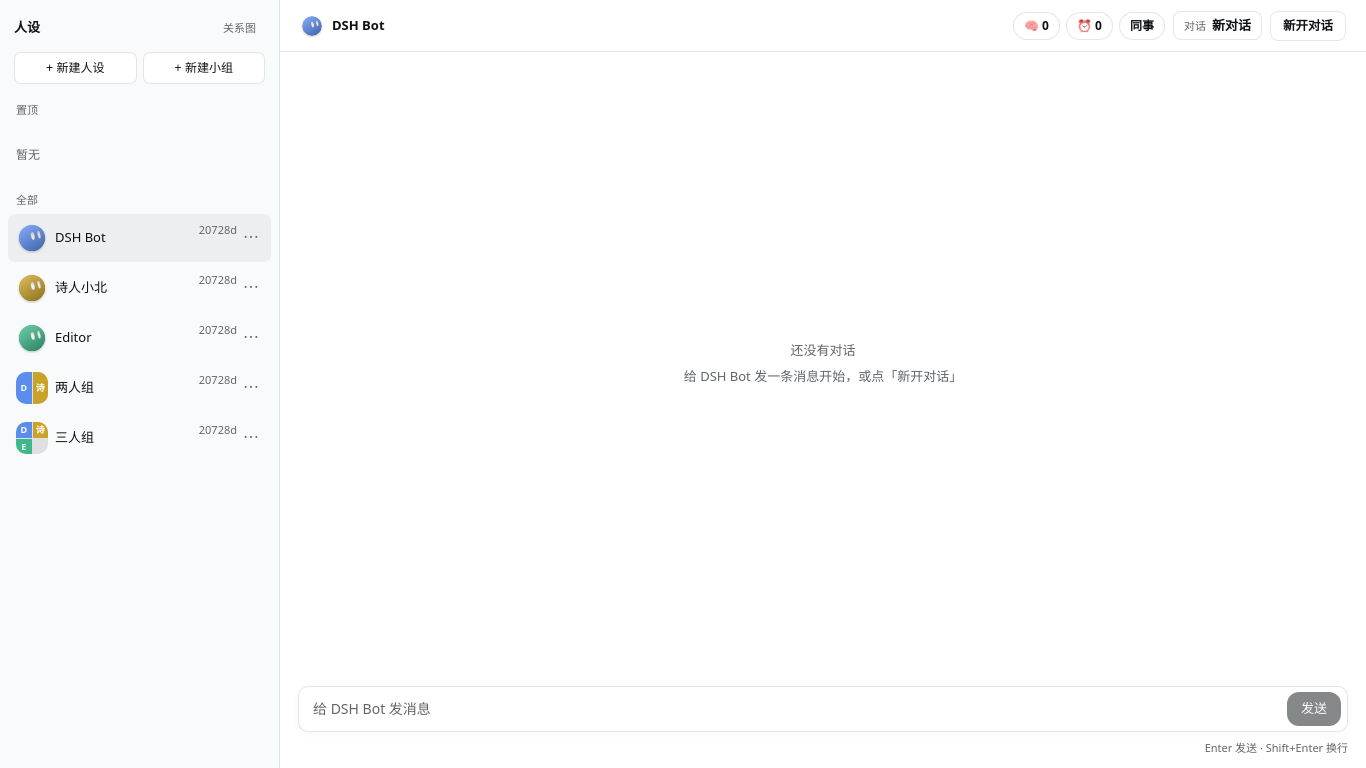
it: App roster load › refreshes groups after deleting a member bot
Expected: the element with test id "roster-row-pair" is shown, [8,364,271,412]
Expected: the element with test id "roster-row-trio" is shown, [8,414,271,462]
Click the button with test id "roster-menu-shiren-xiaobei".
click(251, 288)  # box [239,276,263,300]
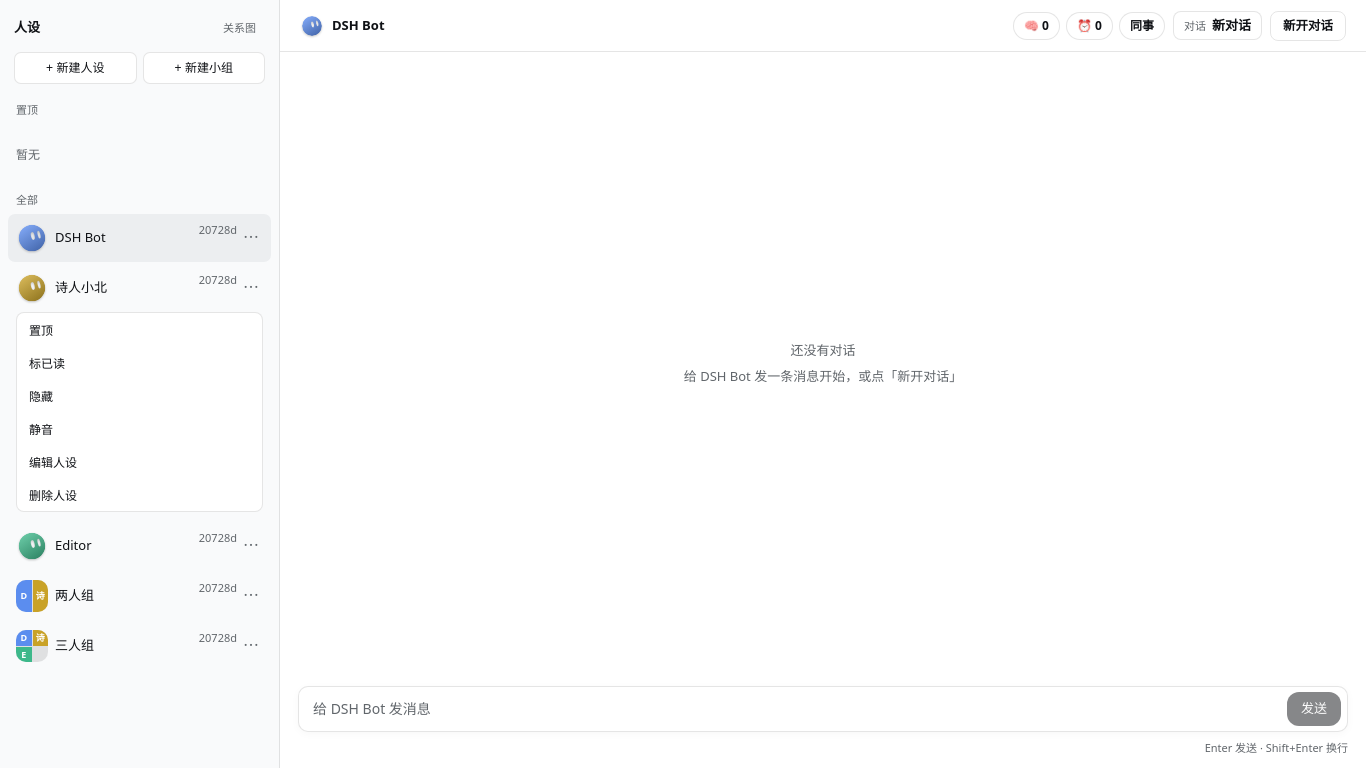
Click the button with test id "roster-delete-shiren-xiaobei".
click(140, 494)  # box [17,478,262,511]
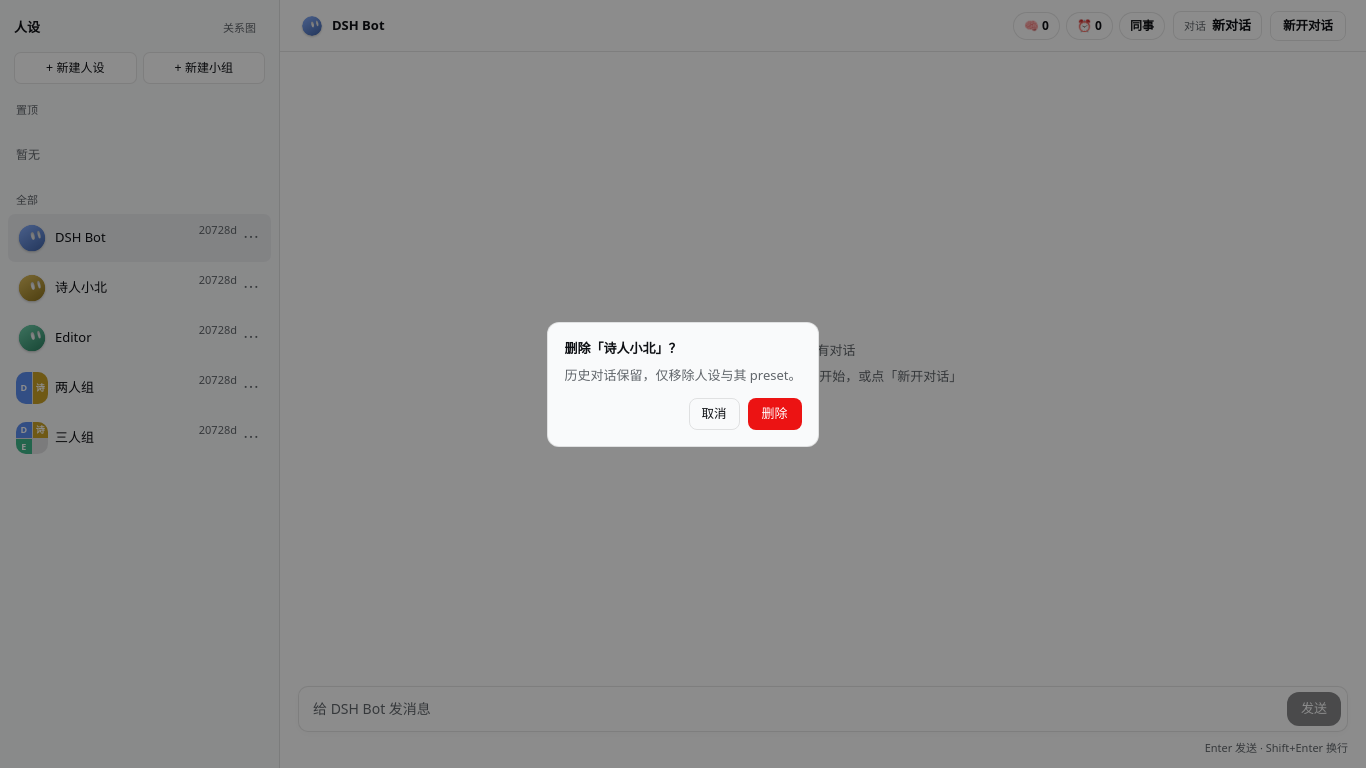
Click the button with test id "roster-delete-ok".
click(774, 414)  # box [748,398,802,430]
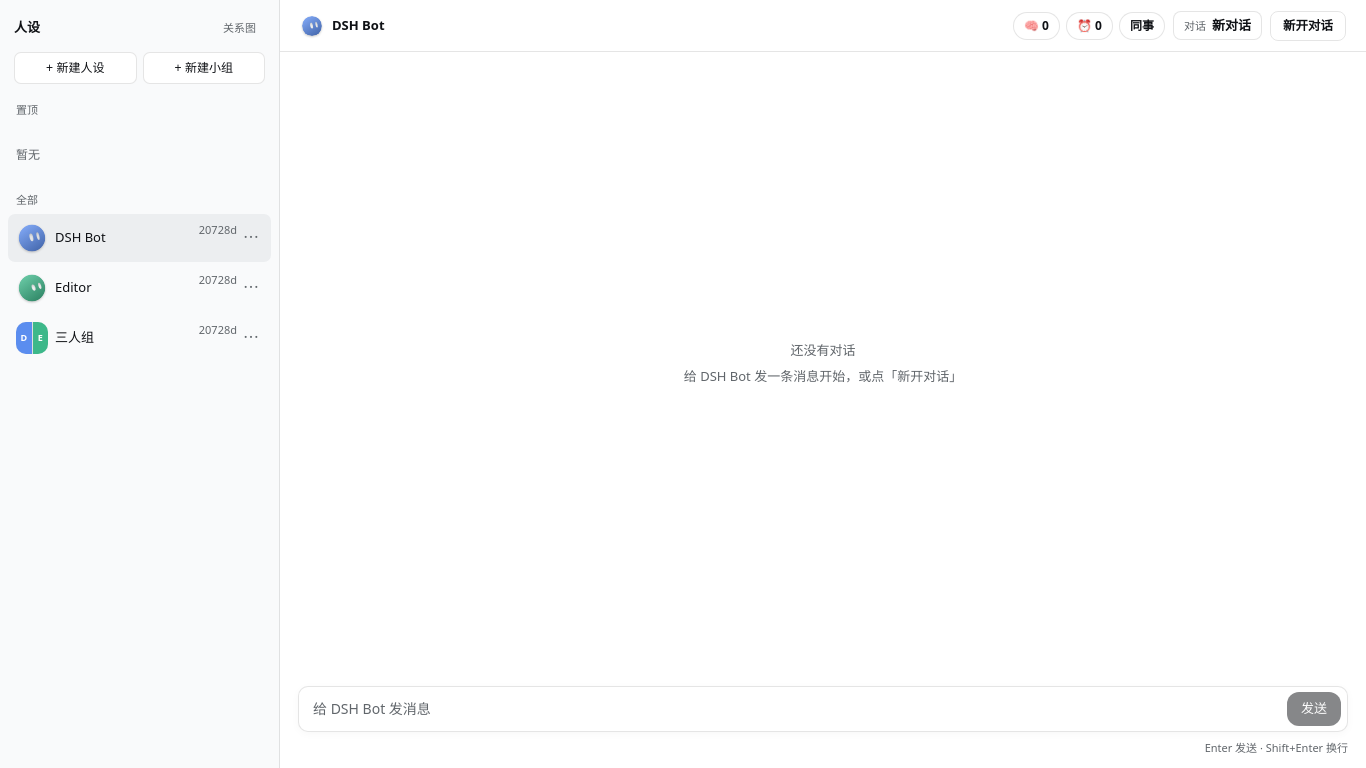
Expected: the element with test id "roster-row-trio" is shown, [8,314,271,362]
Result: the element with test id "roster-row-shiren-xiaobei" is gone
Result: the element with test id "roster-row-pair" is gone
